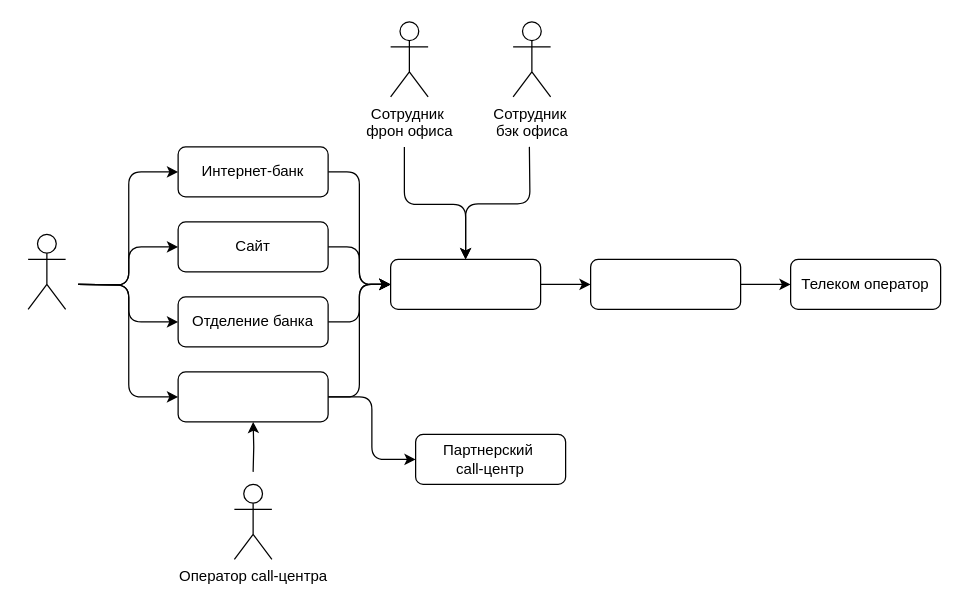
The diagram is 963 pixels wide and 608 high, and some of its shapes have lost their labels. Here are the shapes that lost their labels. From the top down, the box of each, then its label:
(27, 233, 66, 309): Клиент
(389, 258, 541, 309): АБС
(589, 258, 741, 309): СМС-шлюз
(177, 371, 328, 422): Call-центр
